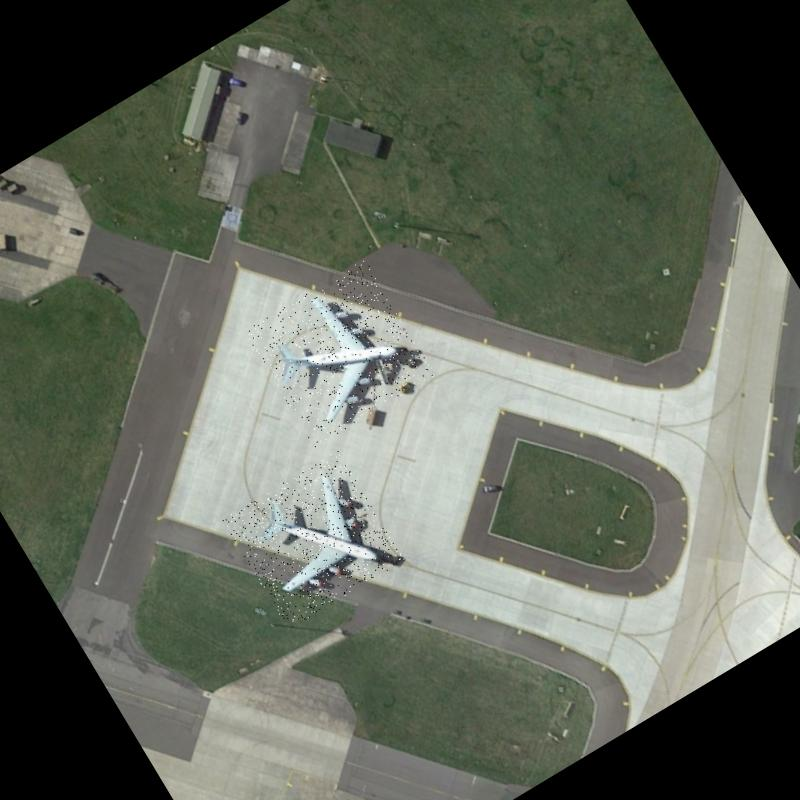A11: (244, 258, 435, 447), (222, 448, 404, 630)
